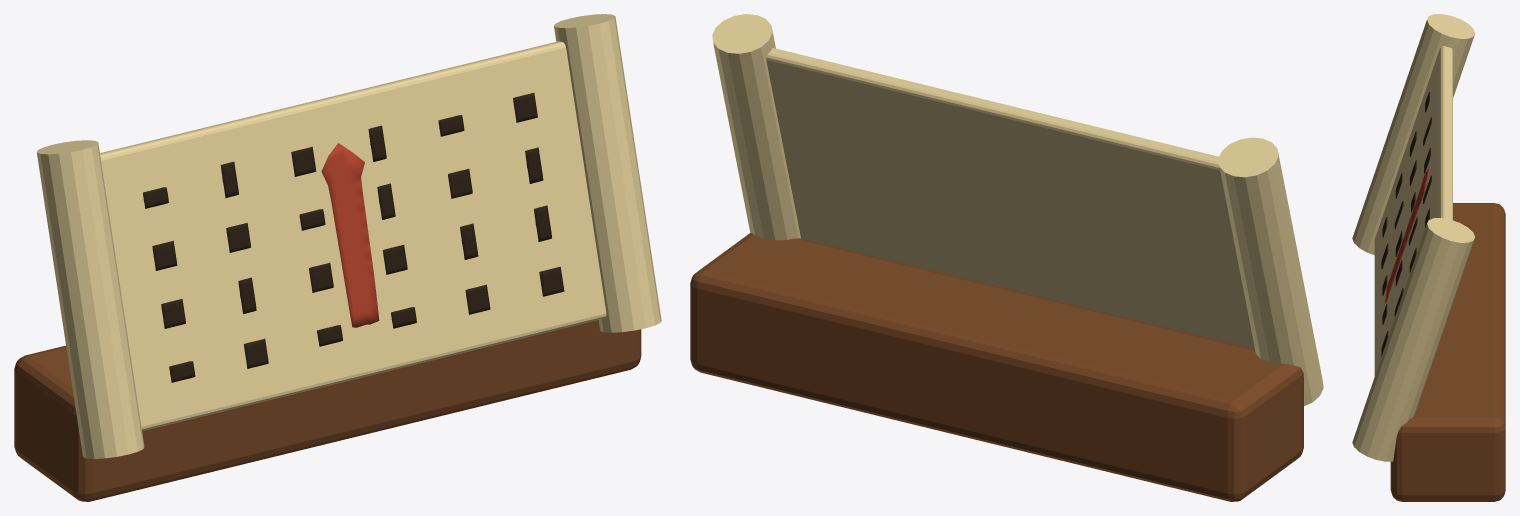
File: papiro.glb
3 renders of one model, left to right at view 1: azimuth 30°, elevation 25°; view 2: azimuth 150°, elevation 25°; view 3: azimuth 270°, elevation 25°, orthographic. The views are drawn at different scales.
Visible parts, largest first — view 1: hoja, atril, rollo-1, rollo1, figura; view 2: atril, hoja, rollo-1, rollo1; view 3: atril, rollo1, hoja, rollo-1, figura.
Part boxes in pixels (box(x1,y1,x2,y2)): hoja: box(100, 41, 606, 430); atril: box(14, 320, 641, 501); rollo-1: box(37, 140, 144, 458); rollo1: box(554, 14, 661, 332); figura: box(321, 143, 379, 327); atril: box(690, 232, 1303, 501); hoja: box(766, 48, 1254, 348); rollo-1: box(1218, 137, 1323, 406); rollo1: box(712, 14, 800, 240); atril: box(1390, 203, 1505, 501); rollo1: box(1352, 218, 1475, 461); hoja: box(1374, 46, 1452, 375); rollo-1: box(1352, 14, 1475, 255); figura: box(1385, 168, 1430, 302).
Size of the model in its own units: 0.464 by 0.2616 by 0.1335.
